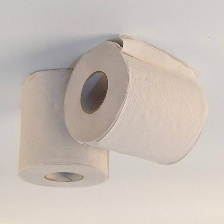tissue: (59, 30, 213, 169), (12, 63, 114, 193)
